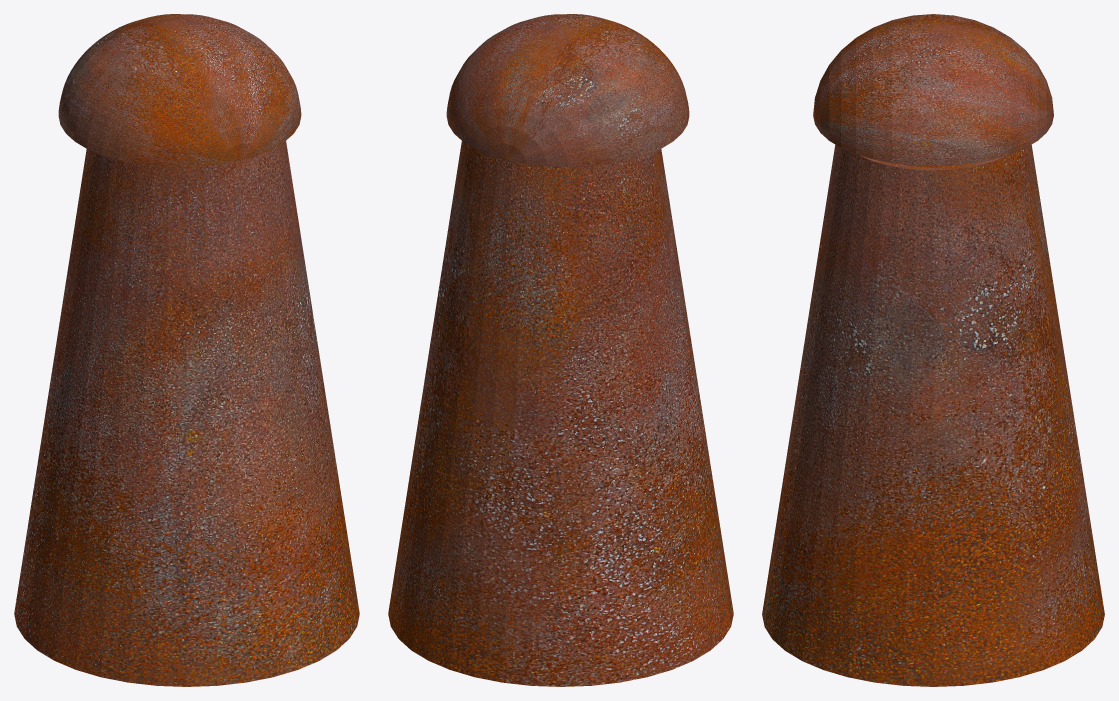
File: tower-4.glb
3 renders of one model, left to right at view 1: azimuth 30°, elevation 25°; view 2: azimuth 150°, elevation 25°; view 3: azimuth 270°, elevation 25°, orthographic.
Bounding box in the file's own units: 10.3 × 19.34 × 10.3.
Materials: 2 (2 with a texture image).
